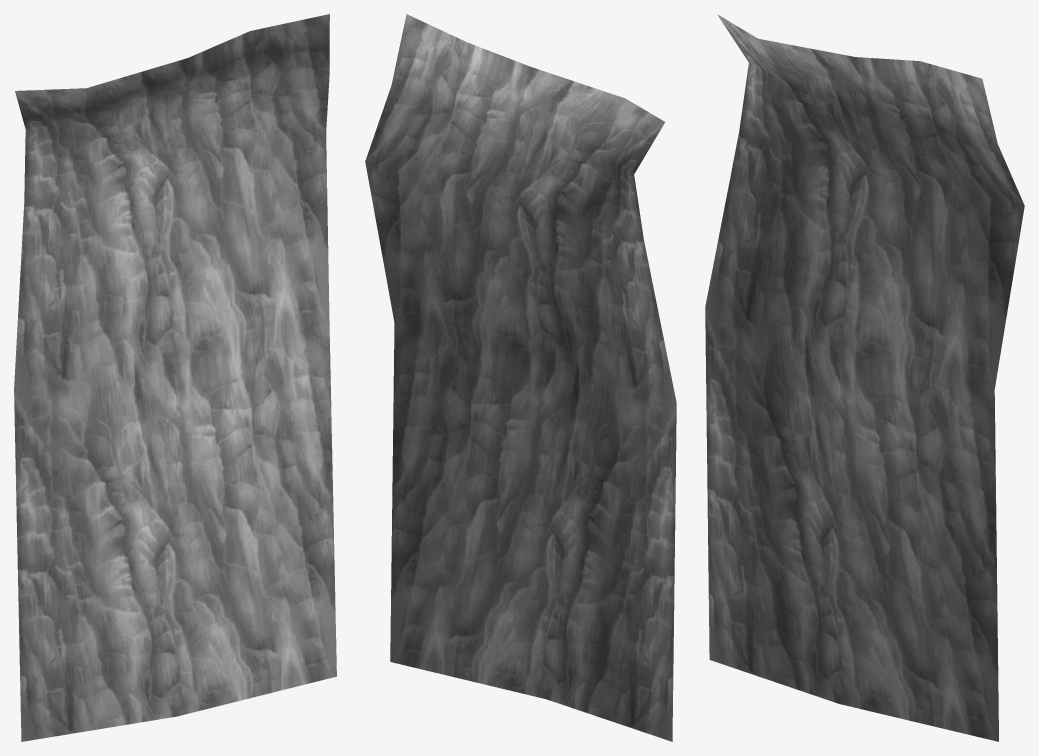
Rendered from SWORDLIGHT20_PS-AREA03_71.fbx.
The picture shows the model from 3 angles, left to right: view 1: azimuth 30°, elevation 25°; view 2: azimuth 150°, elevation 25°; view 3: azimuth 330°, elevation 25°; orthographic projection. The views are drawn at different scales.
Visible parts, largest first — view 1: SWORDLIGHT20_PS-AREA03_71; view 2: SWORDLIGHT20_PS-AREA03_71; view 3: SWORDLIGHT20_PS-AREA03_71.
Boxes of the visible parts, x1,y1,x2,y2 form: SWORDLIGHT20_PS-AREA03_71: (14, 14, 336, 741); SWORDLIGHT20_PS-AREA03_71: (365, 14, 676, 741); SWORDLIGHT20_PS-AREA03_71: (705, 14, 1024, 741).
Bounding box in the file's own units: 75121 × 151502 × 14144.
1 material, 1 textured.
